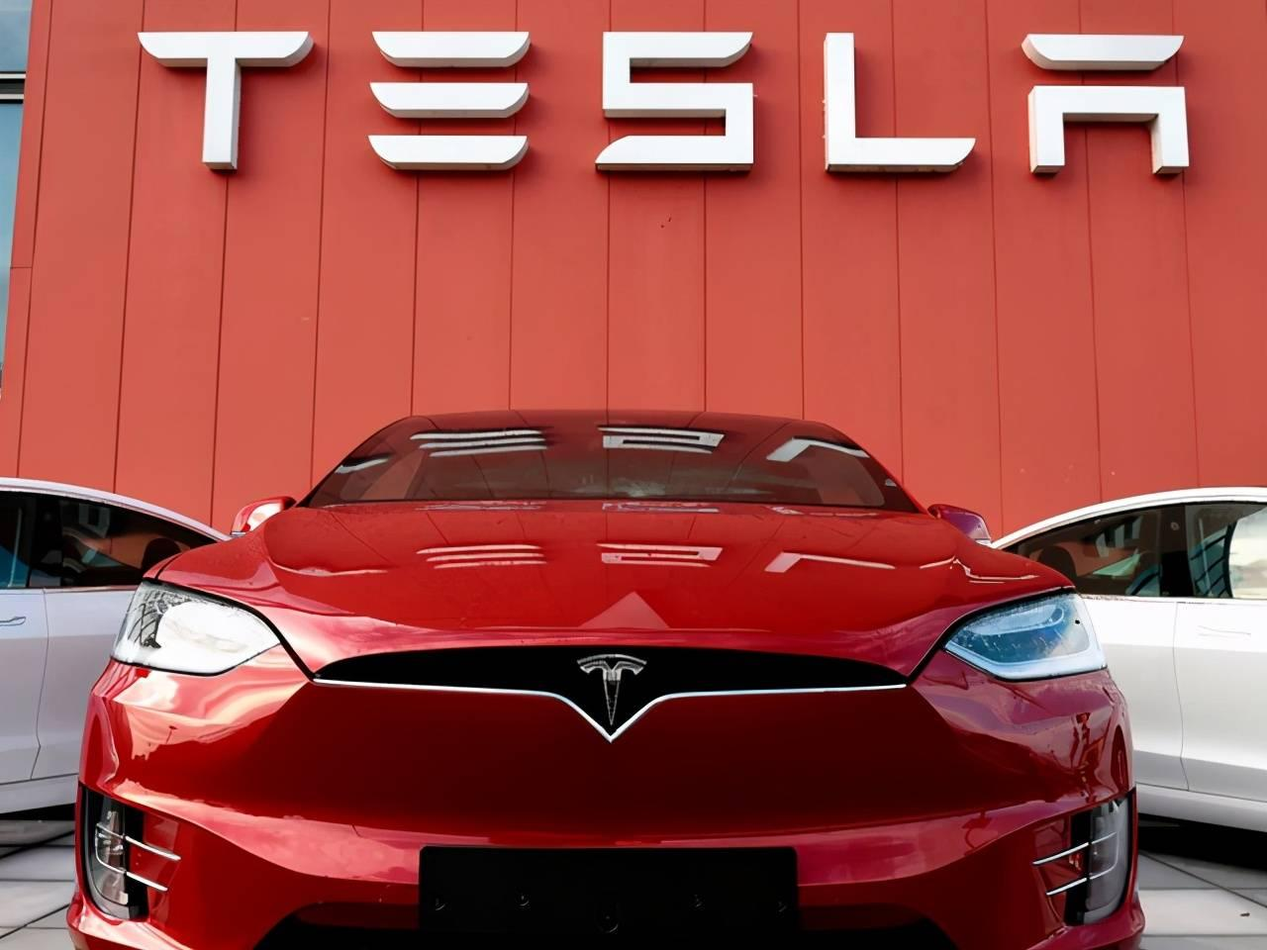Tesla: (574, 651, 647, 726)
